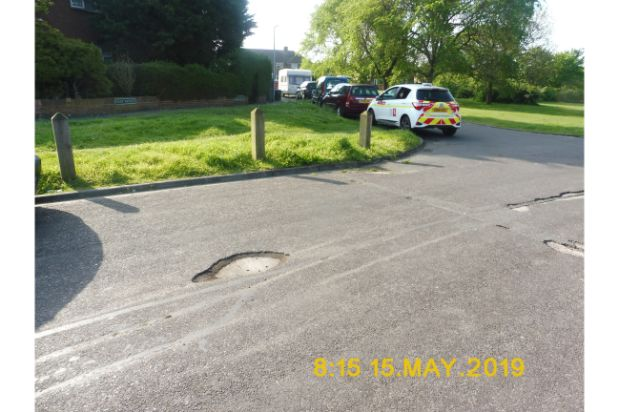pothole: (189, 243, 293, 287)
